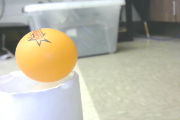PingPongBall: (15, 29, 78, 82)
